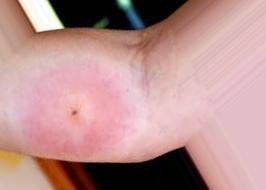Spider: (24, 65, 134, 161)
